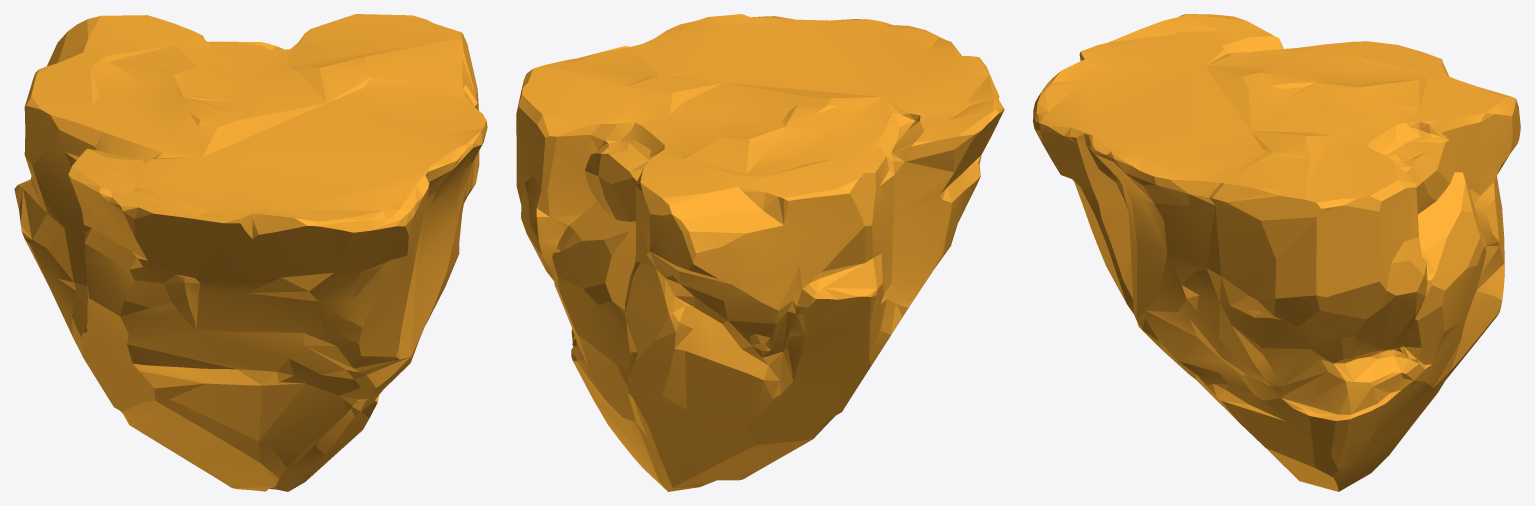
The model's file is SM_Iceberg_Medium_C.fbx.
The picture shows the model from 3 angles, left to right: view 1: azimuth 30°, elevation 25°; view 2: azimuth 150°, elevation 25°; view 3: azimuth 270°, elevation 25°; orthographic projection. The views are drawn at different scales.
Visible parts, largest first — view 1: iceberg-medium-c; view 2: iceberg-medium-c; view 3: iceberg-medium-c.
Part boxes in pixels (left/top/right/bottom): iceberg-medium-c: left=14, top=14, right=487, bottom=491; iceberg-medium-c: left=516, top=14, right=1004, bottom=491; iceberg-medium-c: left=1033, top=14, right=1520, bottom=491.
Size of the model in its own units: 12.83 by 11.21 by 13.95.
